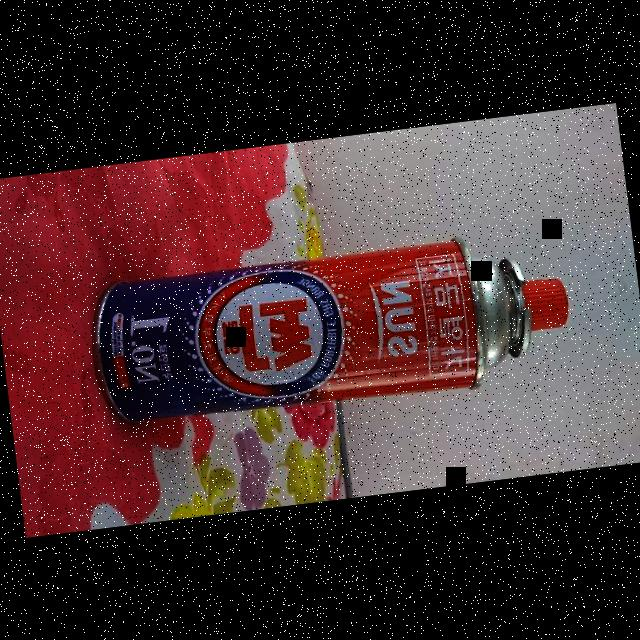chemical_spray_can: (68, 210, 582, 445)
